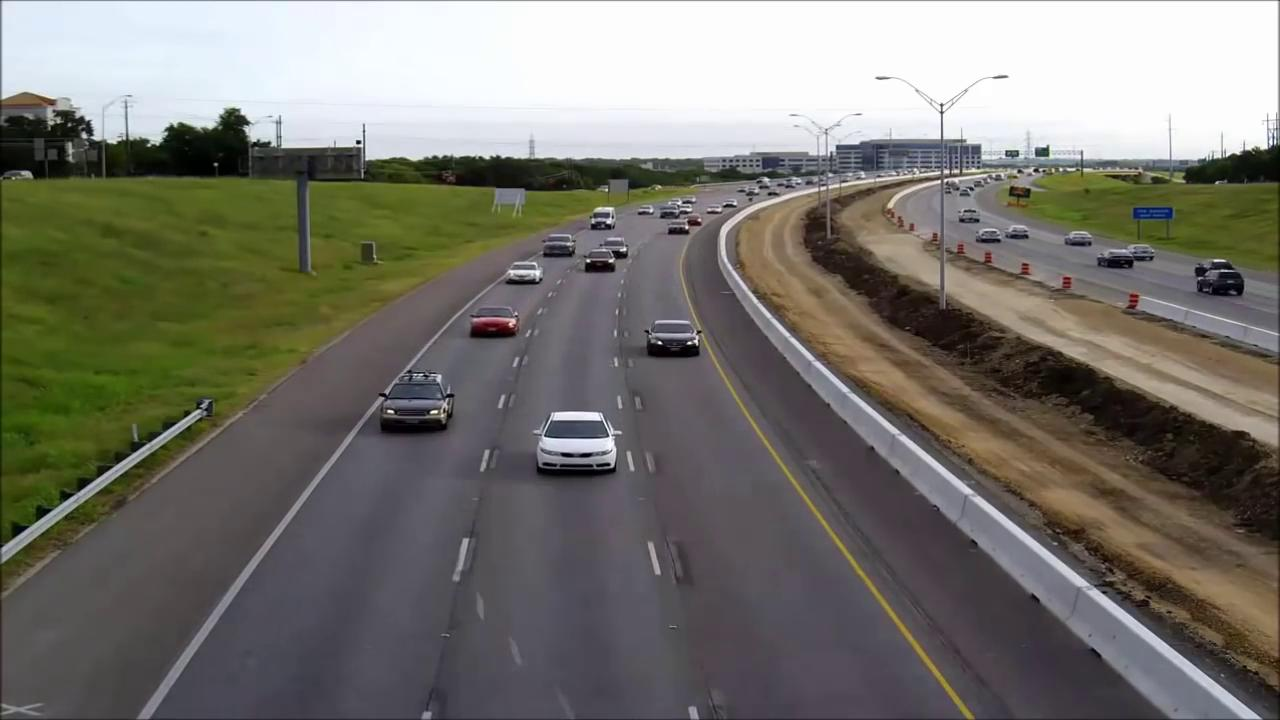car: (375, 381, 452, 433), (539, 411, 623, 447), (646, 321, 700, 357), (470, 304, 519, 336), (1196, 267, 1247, 295), (1094, 246, 1155, 269), (584, 249, 618, 272), (509, 261, 544, 283), (542, 236, 576, 258), (601, 237, 630, 256), (1128, 245, 1158, 262), (1065, 234, 1095, 248), (592, 213, 618, 229), (974, 229, 1002, 243), (957, 210, 983, 224), (1007, 226, 1032, 239)
